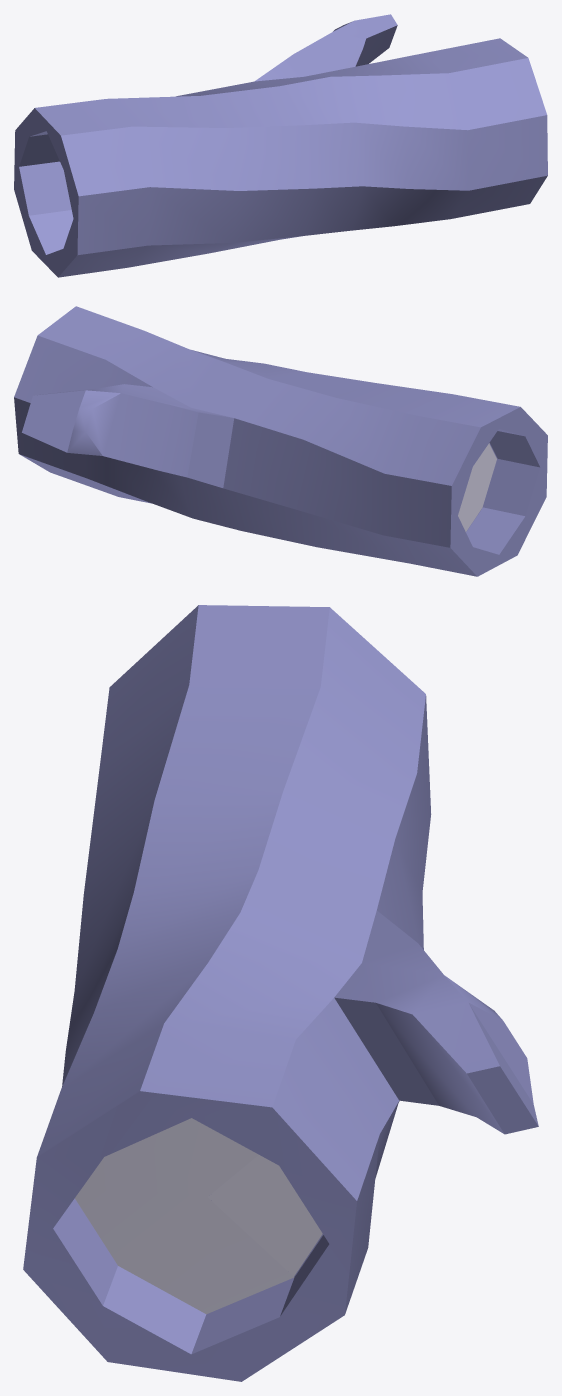
File: Night_Log.fbx
The picture shows the model from 3 angles, top to bottom: view 1: azimuth 30°, elevation 25°; view 2: azimuth 150°, elevation 25°; view 3: azimuth 270°, elevation 25°; orthographic projection. The views are drawn at different scales.
Parts seen in each view (by area): view 1: pCylinder1; view 2: pCylinder1; view 3: pCylinder1.
Part boxes in pixels (x1=…): pCylinder1: x1=14, y1=14, x2=547, y2=277; pCylinder1: x1=14, y1=306, x2=547, y2=576; pCylinder1: x1=23, y1=605, x2=538, y2=1381.
Bounding box in the file's own units: 5.43 × 1.92 × 2.61.
